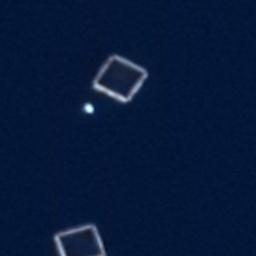square_solid: (89, 50, 154, 107), (47, 217, 110, 256)
